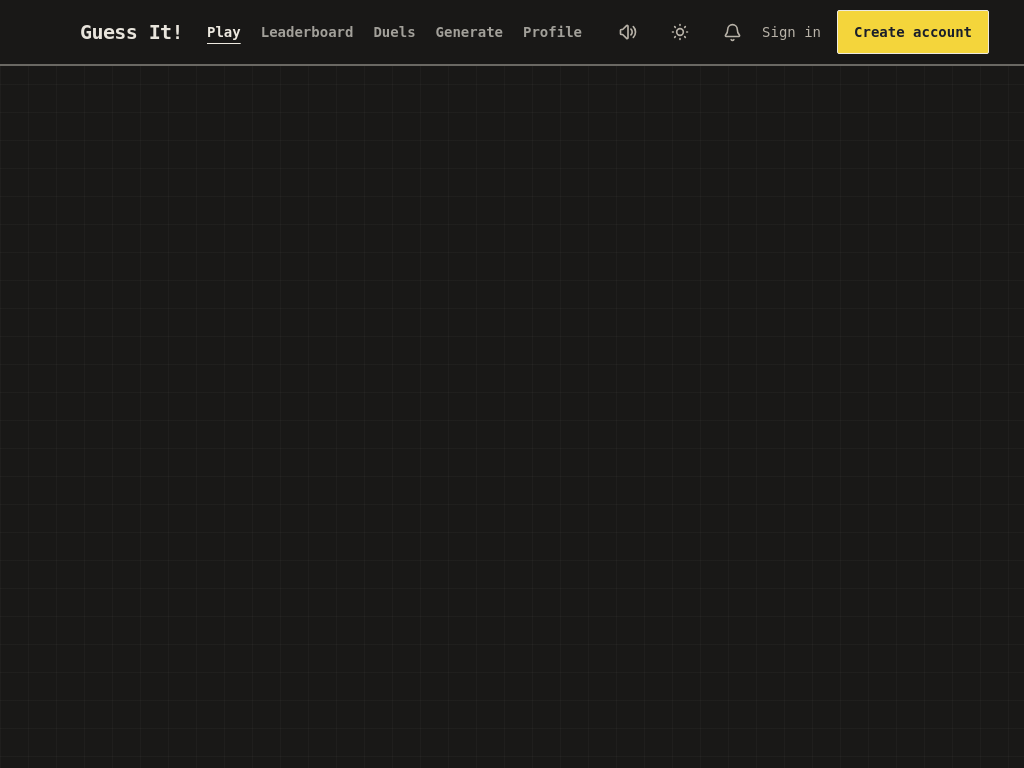
Scenario: Header mobile navigation › shows the notification bell with a sign-in prompt for anonymous sessions
Step 1. Click the button named "notifications" → x=732, y=32, box x1=710 y1=10 x2=754 y2=54
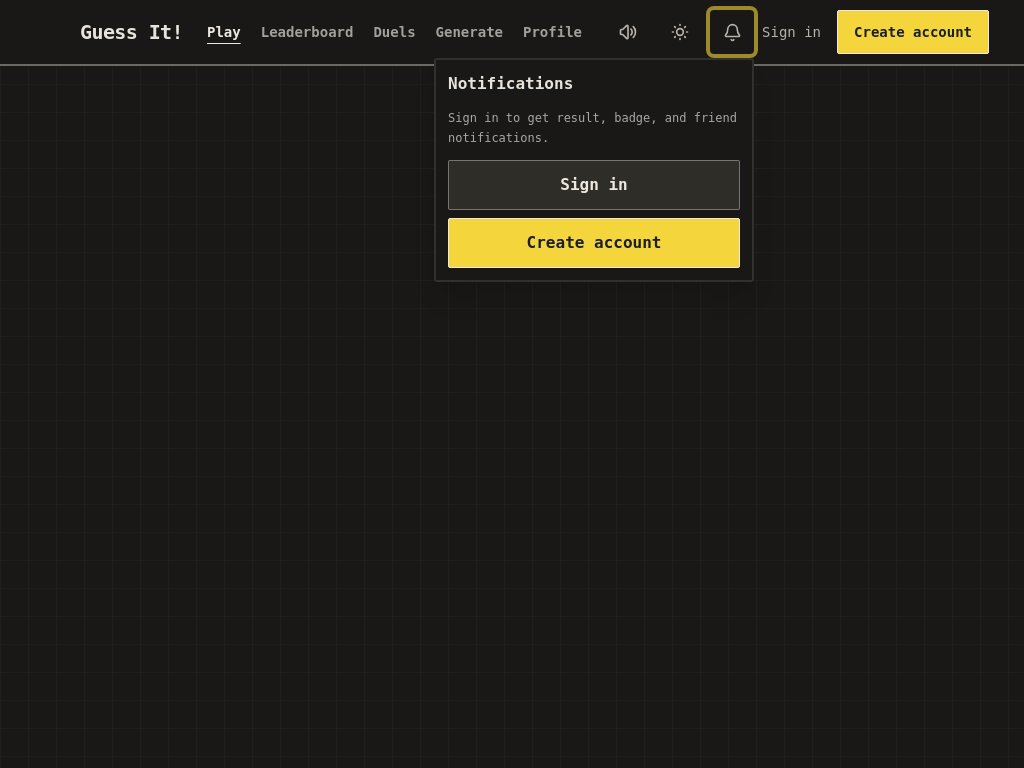
Result: the dialog "Notifications" shows "Sign in to get" at x1=448 y1=111 x2=737 y2=145
